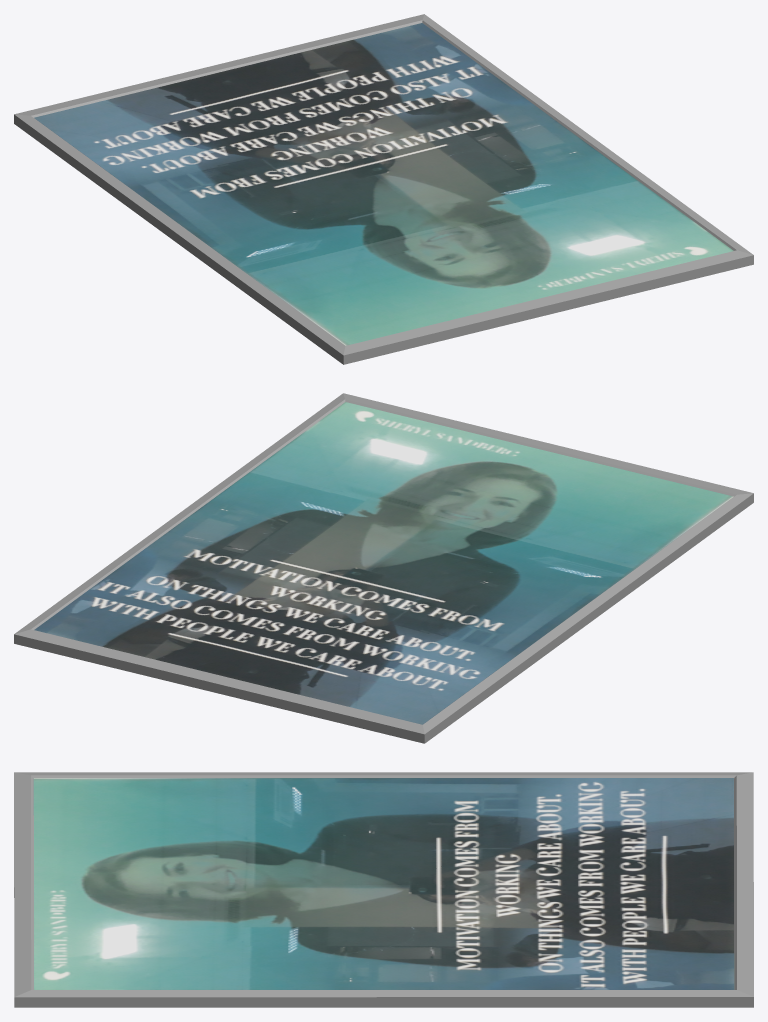
File: p11_sheryl_sandberg.dae
3 renders of one model, top to bottom at view 1: azimuth 30°, elevation 25°; view 2: azimuth 150°, elevation 25°; view 3: azimuth 270°, elevation 25°, orthographic. The views are drawn at different scales.
Parts seen in each view (by area): view 1: Circle_001, Circle; view 2: Circle_001, Circle; view 3: Circle_001, Circle.
Boxes of the visible parts, bbox=[...] form: Circle_001: bbox=[34, 23, 733, 345]; Circle: bbox=[14, 14, 753, 364]; Circle_001: bbox=[34, 402, 733, 724]; Circle: bbox=[14, 393, 753, 743]; Circle_001: bbox=[33, 778, 734, 989]; Circle: bbox=[14, 772, 753, 1007].
Size of the model in its own units: 44.02 by 61.19 by 1.14.
2 materials, 1 textured.
